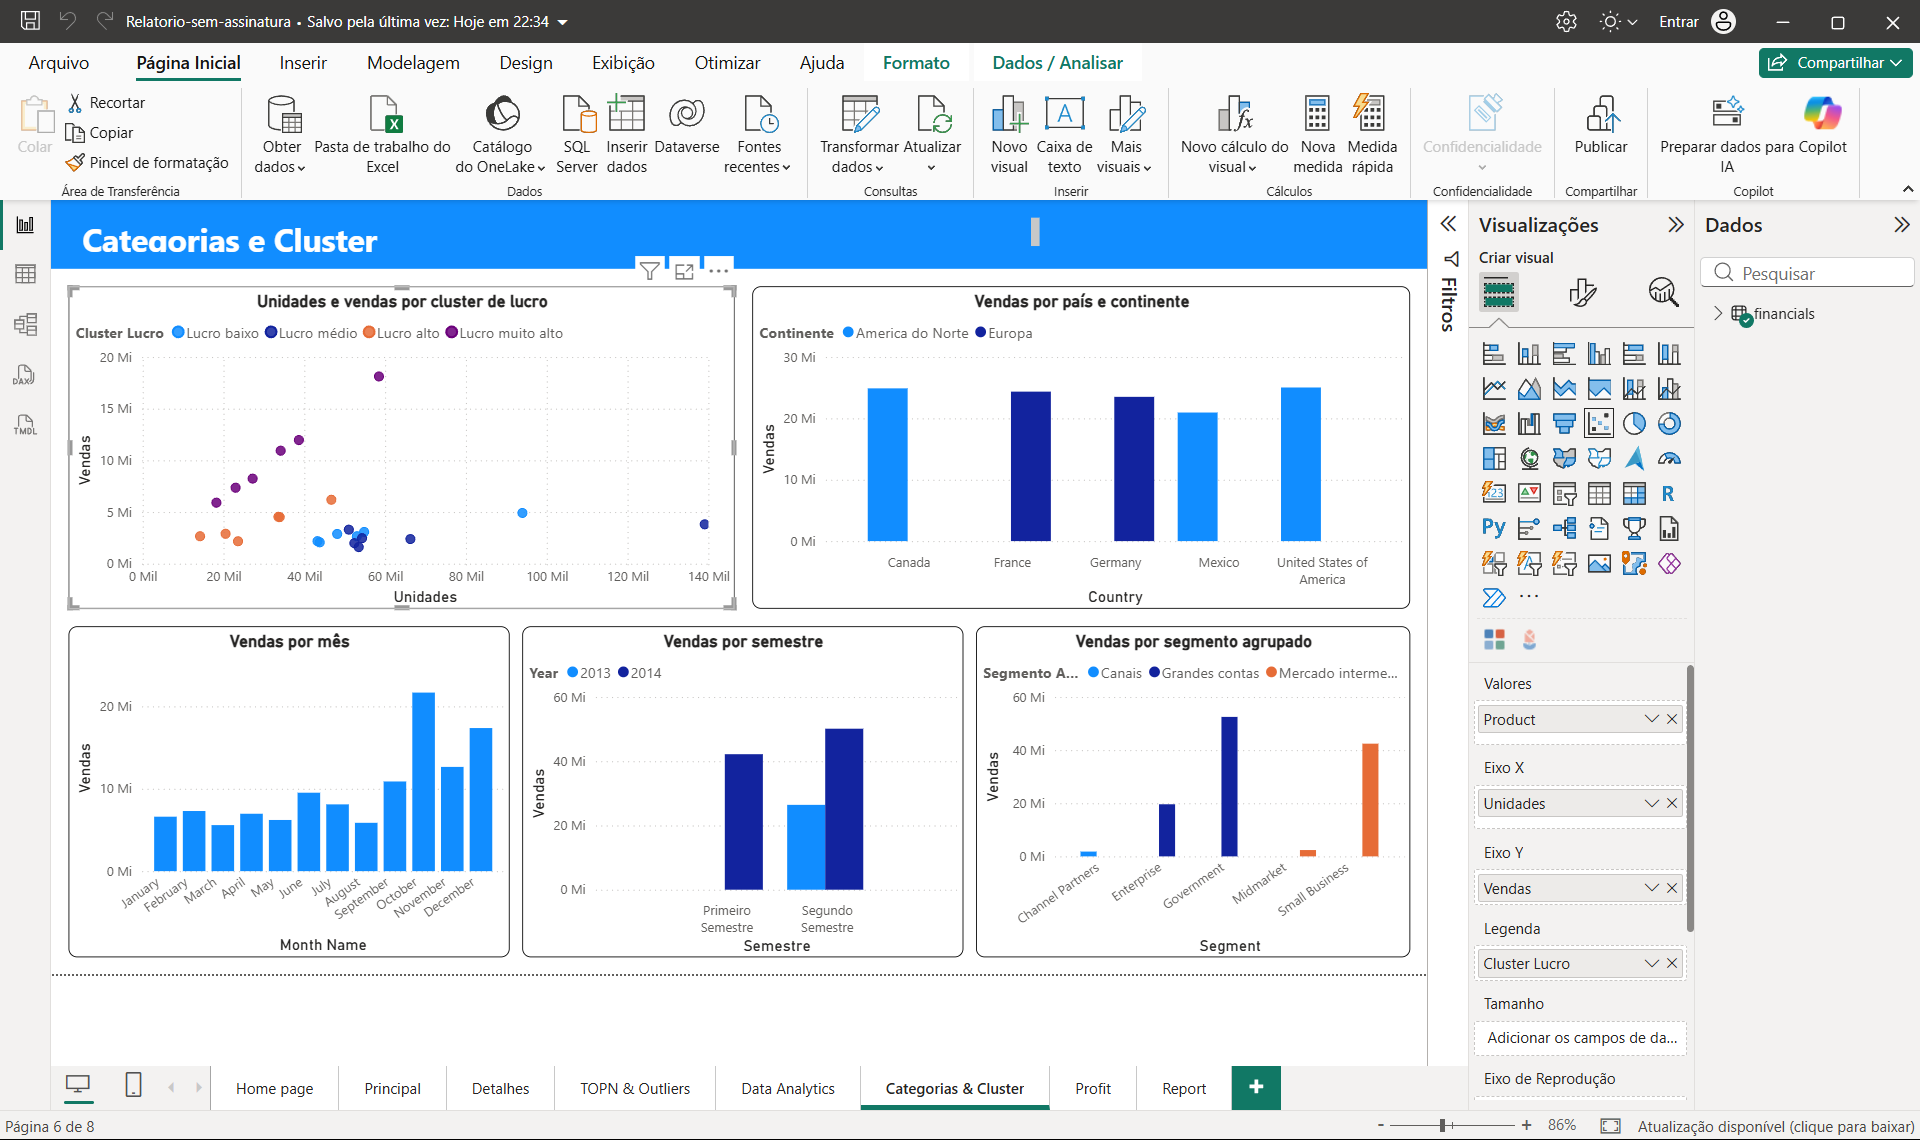

The page's visual inventory and layout, read from the dashboard file:
{"tool":"powerbi","page":{"name":"Categorias & Cluster","canvas":[1280,720],"ordinal":5},"visuals":[{"type":"shape","box":[0,0,1280,64],"z":0},{"type":"textbox","box":[24,12,900,42],"z":5},{"type":"scatterChart","title":"Unidades e vendas por cluster de lucro","fields":{"Category":["financials.Product"],"Series":["financials.Cluster Lucro"],"X":["financials.Unidades"],"Y":["financials.Vendas"]},"box":[16,80,620,300],"z":1000},{"type":"clusteredColumnChart","title":"Vendas por país e continente","fields":{"Category":["financials.Country"],"Series":["financials.Continente"],"Y":["financials.Vendas"]},"box":[652,80,612,300],"z":1000},{"type":"clusteredColumnChart","title":"Vendas por mês","fields":{"Category":["financials.Month Name"],"Y":["financials.Vendas"]},"box":[16,396,410,308],"z":1000},{"type":"clusteredColumnChart","title":"Vendas por semestre","fields":{"Category":["financials.Semestre"],"Series":["financials.Year"],"Y":["financials.Vendas"]},"box":[438,396,410,308],"z":1000},{"type":"clusteredColumnChart","title":"Vendas por segmento agrupado","fields":{"Category":["financials.Segment"],"Series":["financials.Segmento Agrupado"],"Y":["financials.Vendas"]},"box":[860,396,404,308],"z":1000}]}

Visuals, with their boxes on the page's 1280x720 design canvas (x1, y1, x2, y2). These are canvas units, not pixel positions in the 1920x1140 screenshot, which may show the page scaled, cropped or inside an application window:
shape: locate(0, 0, 1280, 64)
textbox: locate(24, 12, 924, 54)
"Unidades e vendas por cluster de lucro" scatterChart: locate(16, 80, 636, 380)
"Vendas por país e continente" clusteredColumnChart: locate(652, 80, 1264, 380)
"Vendas por mês" clusteredColumnChart: locate(16, 396, 426, 704)
"Vendas por semestre" clusteredColumnChart: locate(438, 396, 848, 704)
"Vendas por segmento agrupado" clusteredColumnChart: locate(860, 396, 1264, 704)
